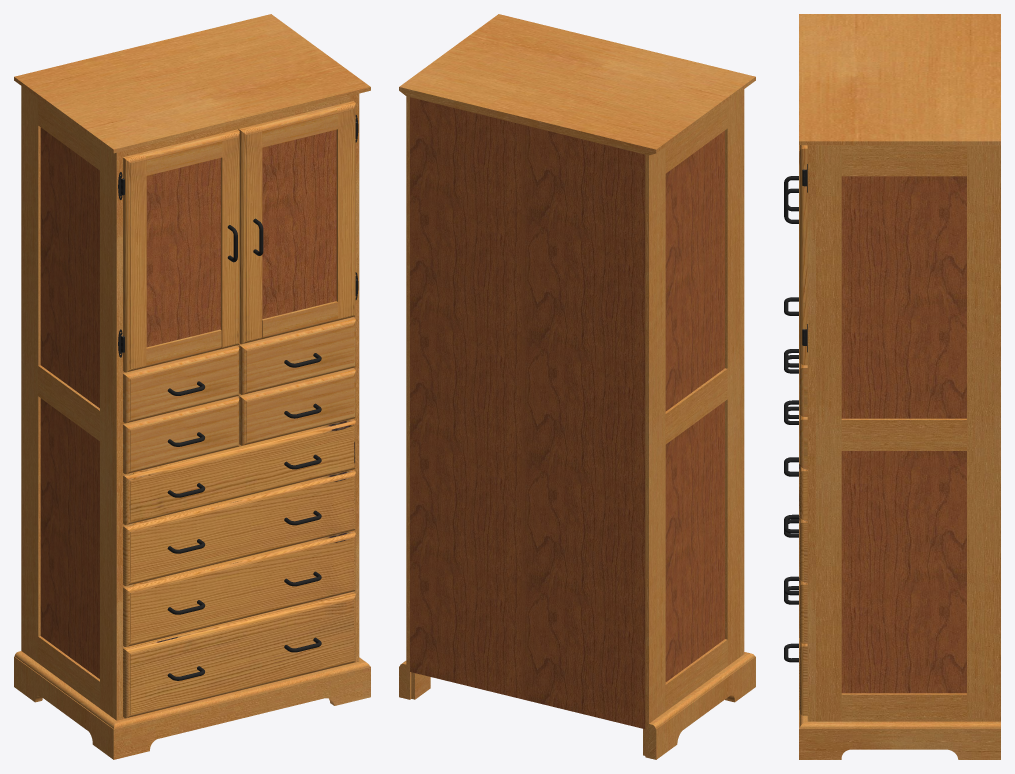
The model's file is shelf2.obj.
3 views of the same model, side by side, from view 1: azimuth 30°, elevation 25°; view 2: azimuth 150°, elevation 25°; view 3: azimuth 270°, elevation 25° (orthographic).
Visible parts, largest first — view 1: Mesh256 top1 Component_16_1 Model, Mesh236 G_6__drawer_face1 Group29 Component_16_1 Model, Mesh180 side_panel4 Group24 Component_16_1 Model, Mesh179 side_panel3 Group24 Component_16_1 Model, Mesh15 G_5__drawer_face1 Group3 Component_16_1 Model, Mesh25 G_5__drawer_face2 Group4 Component_16_1 Model, Mesh219 door_panel2 Group27 Component_16_1 Model, Mesh213 door_panel1 Group26 Component_16_1 Model, Mesh253 base_board1 Component_16_1 Model, Mesh40 G_4__drawer_face1 Group5 Component_16_1 Model, Mesh175 side_rear_stile2 Group24 Component_16_1 Model, Mesh177 side_front_stile2 Group24 Component_16_1 Model (+18 smaller); view 2: Mesh257 back_panel1 Component_16_1 Model, Mesh256 top1 Component_16_1 Model, Mesh180 side_panel4 Group24 Component_16_1 Model, Mesh179 side_panel3 Group24 Component_16_1 Model, Mesh175 side_rear_stile2 Group24 Component_16_1 Model, Mesh177 side_front_stile2 Group24 Component_16_1 Model, Mesh253 base_board1 Component_16_1 Model, Mesh2 side_rear_stile1 Group1 Component_16_1 Model, Mesh222 front_face_stile1 Group28 Component_16_1 Model, Mesh178 side_center_stile2 Group24 Component_16_1 Model, Mesh176 side_upper_lower_rail4 Group24 Component_16_1 Model, Mesh174 side_upper_lower_rail3 Group24 Component_16_1 Model; view 3: Mesh7 side_panel2 Group1 Component_16_1 Model, Mesh6 side_panel1 Group1 Component_16_1 Model, Mesh256 top1 Component_16_1 Model, Mesh2 side_rear_stile1 Group1 Component_16_1 Model, Mesh4 side_front_stile1 Group1 Component_16_1 Model, Mesh253 base_board1 Component_16_1 Model, Mesh223 front_face_stile2 Group28 Component_16_1 Model, Mesh5 side_center_stile1 Group1 Component_16_1 Model, Mesh1 side_upper_lower_rail1 Group1 Component_16_1 Model, Mesh3 side_upper_lower_rail2 Group1 Component_16_1 Model, Mesh211 door_stile2 Group26 Component_16_1 Model, Mesh236 G_6__drawer_face1 Group29 Component_16_1 Model (+5 smaller).
Boxes of the visible parts, x1,y1,x2,y2 form: Mesh256 top1 Component_16_1 Model: (14, 14, 370, 153); Mesh236 G_6__drawer_face1 Group29 Component_16_1 Model: (123, 592, 355, 718); Mesh180 side_panel4 Group24 Component_16_1 Model: (40, 127, 99, 408); Mesh179 side_panel3 Group24 Component_16_1 Model: (40, 398, 99, 678); Mesh15 G_5__drawer_face1 Group3 Component_16_1 Model: (123, 531, 355, 646); Mesh25 G_5__drawer_face2 Group4 Component_16_1 Model: (123, 470, 355, 585); Mesh219 door_panel2 Group27 Component_16_1 Model: (146, 158, 220, 347); Mesh213 door_panel1 Group26 Component_16_1 Model: (262, 129, 336, 319); Mesh253 base_board1 Component_16_1 Model: (14, 651, 370, 759); Mesh40 G_4__drawer_face1 Group5 Component_16_1 Model: (123, 419, 355, 524); Mesh175 side_rear_stile2 Group24 Component_16_1 Model: (21, 86, 40, 662); Mesh177 side_front_stile2 Group24 Component_16_1 Model: (100, 143, 112, 717); Mesh257 back_panel1 Component_16_1 Model: (410, 97, 645, 728); Mesh256 top1 Component_16_1 Model: (399, 14, 755, 155); Mesh180 side_panel4 Group24 Component_16_1 Model: (665, 130, 724, 411); Mesh179 side_panel3 Group24 Component_16_1 Model: (665, 401, 724, 681); Mesh175 side_rear_stile2 Group24 Component_16_1 Model: (643, 147, 665, 757); Mesh177 side_front_stile2 Group24 Component_16_1 Model: (725, 92, 740, 700); Mesh253 base_board1 Component_16_1 Model: (399, 652, 755, 759); Mesh2 side_rear_stile1 Group1 Component_16_1 Model: (406, 96, 430, 699); Mesh222 front_face_stile1 Group28 Component_16_1 Model: (740, 89, 744, 656); Mesh178 side_center_stile2 Group24 Component_16_1 Model: (665, 368, 727, 444); Mesh176 side_upper_lower_rail4 Group24 Component_16_1 Model: (665, 639, 727, 711); Mesh174 side_upper_lower_rail3 Group24 Component_16_1 Model: (665, 101, 727, 173); Mesh7 side_panel2 Group1 Component_16_1 Model: (841, 176, 966, 418); Mesh6 side_panel1 Group1 Component_16_1 Model: (841, 451, 966, 693); Mesh256 top1 Component_16_1 Model: (799, 14, 1000, 145); Mesh2 side_rear_stile1 Group1 Component_16_1 Model: (967, 145, 1000, 721); Mesh4 side_front_stile1 Group1 Component_16_1 Model: (816, 145, 841, 721); Mesh253 base_board1 Component_16_1 Model: (799, 710, 1000, 759); Mesh223 front_face_stile2 Group28 Component_16_1 Model: (807, 145, 815, 721); Mesh5 side_center_stile1 Group1 Component_16_1 Model: (841, 418, 966, 450); Mesh1 side_upper_lower_rail1 Group1 Component_16_1 Model: (841, 145, 966, 176); Mesh3 side_upper_lower_rail2 Group1 Component_16_1 Model: (841, 693, 966, 721); Mesh211 door_stile2 Group26 Component_16_1 Model: (799, 145, 807, 365); Mesh236 G_6__drawer_face1 Group29 Component_16_1 Model: (799, 638, 807, 715).
Size of the model in its own units: 15.86 by 35.97 by 11.43.
Materials: 11 (9 with a texture image).
